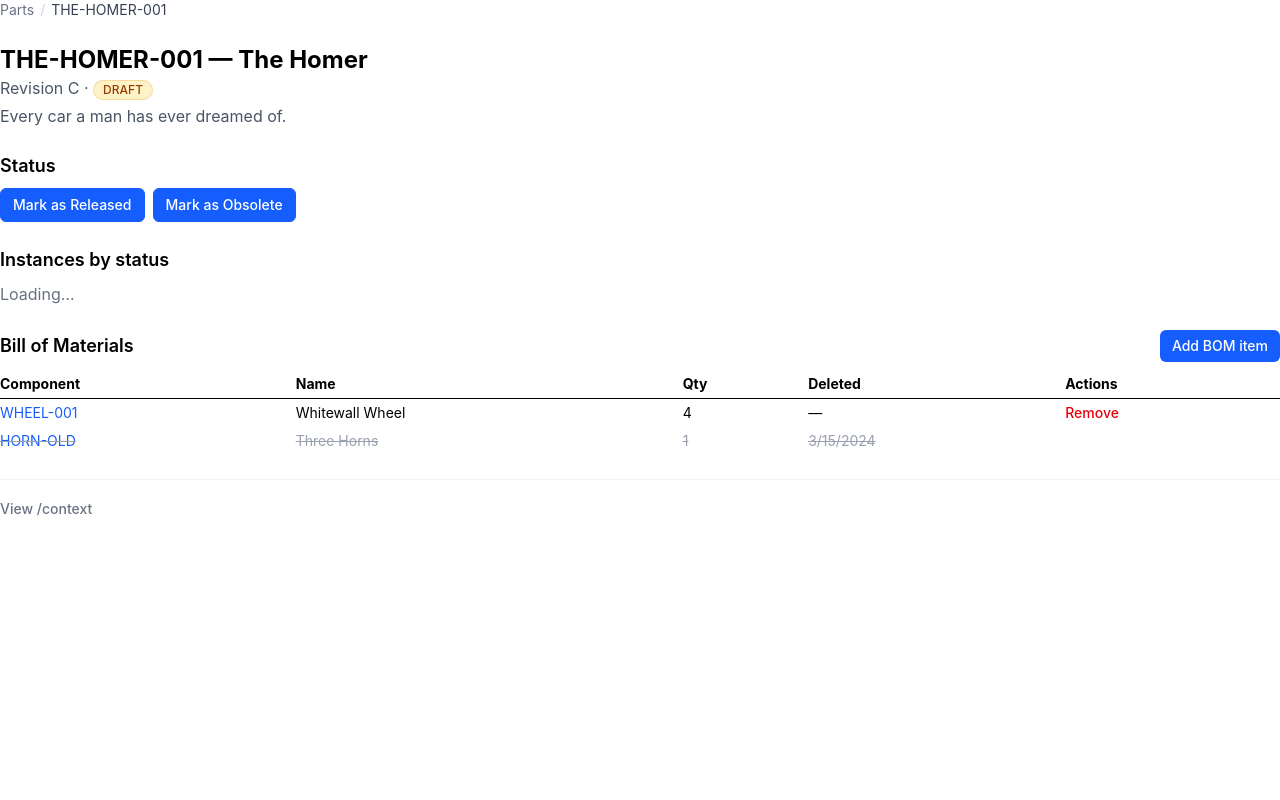
Test: PartDetail › shows a loading state inside the /context modal while context is pending
Check: the heading "THE-HOMER-001 — The Homer" is shown, box left=0, top=45, right=368, bottom=74
Click the button "View /context" at (46, 509), box left=0, top=499, right=92, bottom=519
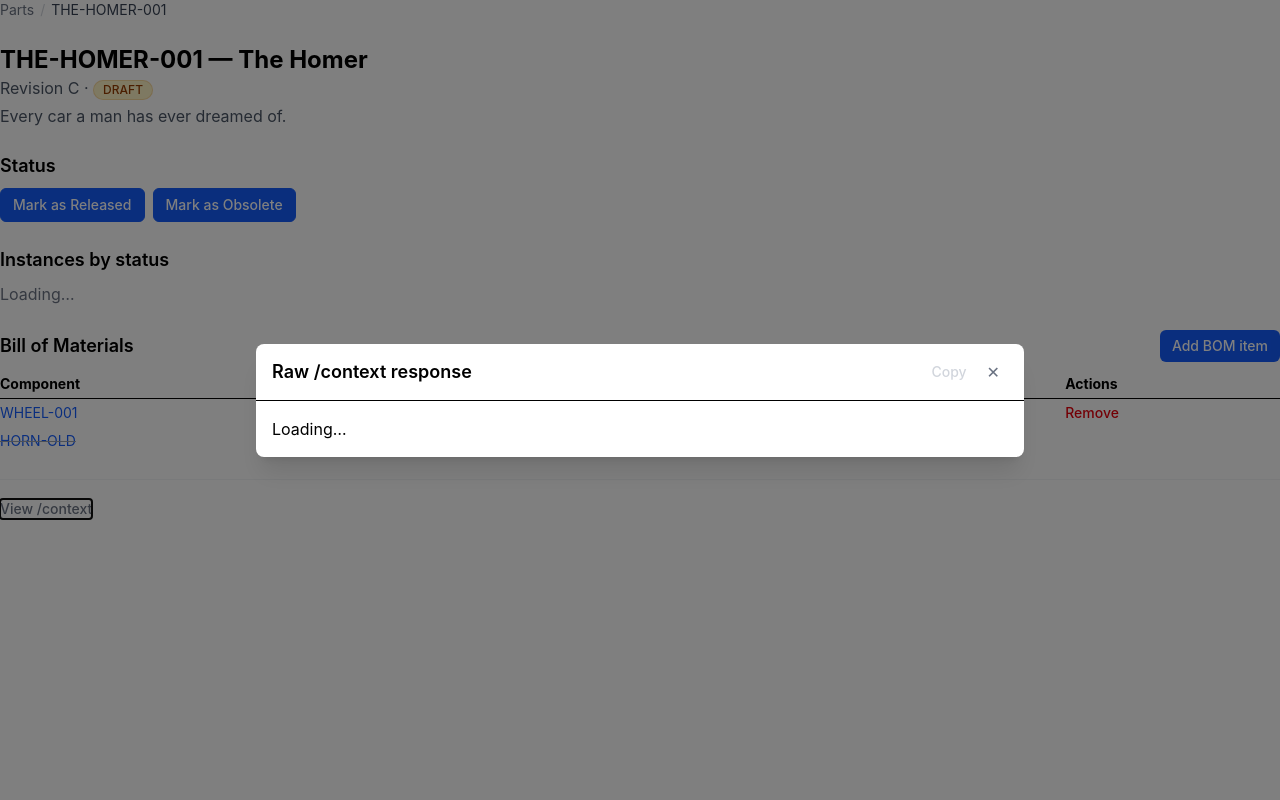
Check: the text "Loading…" is shown, box left=272, top=418, right=346, bottom=438
